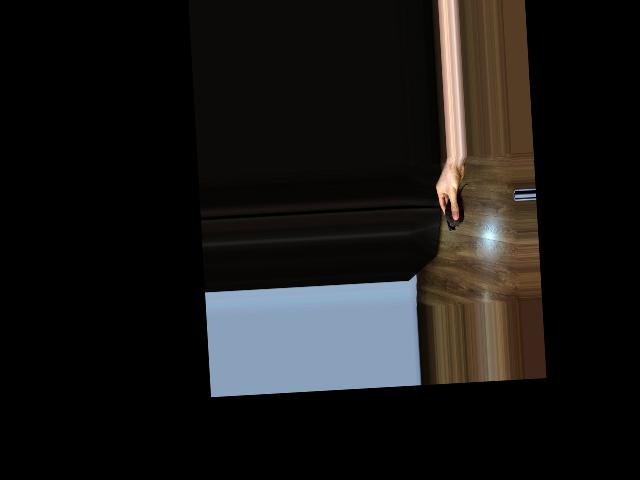beet: (443, 184, 471, 231)
